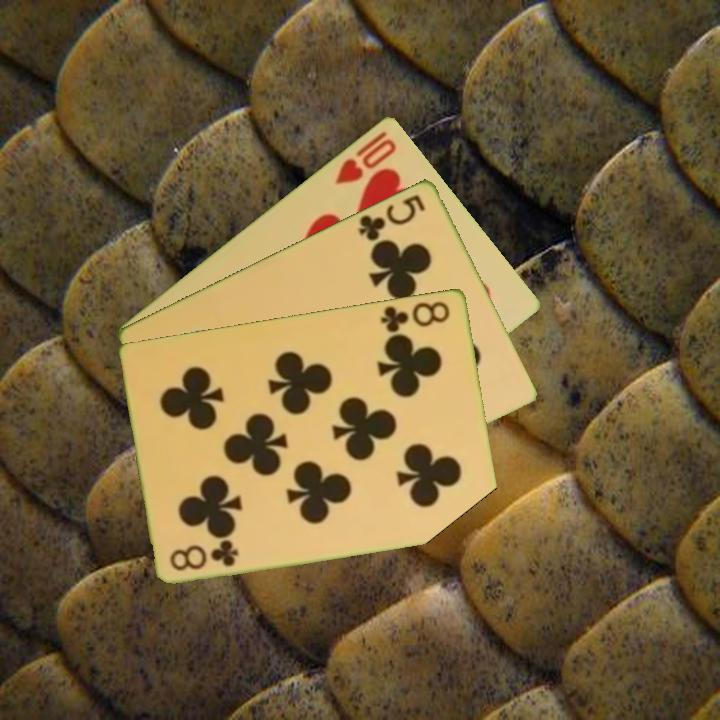10h: (331, 127, 400, 187)
5c: (355, 190, 428, 244)
8c: (377, 297, 453, 335), (166, 537, 242, 573)
